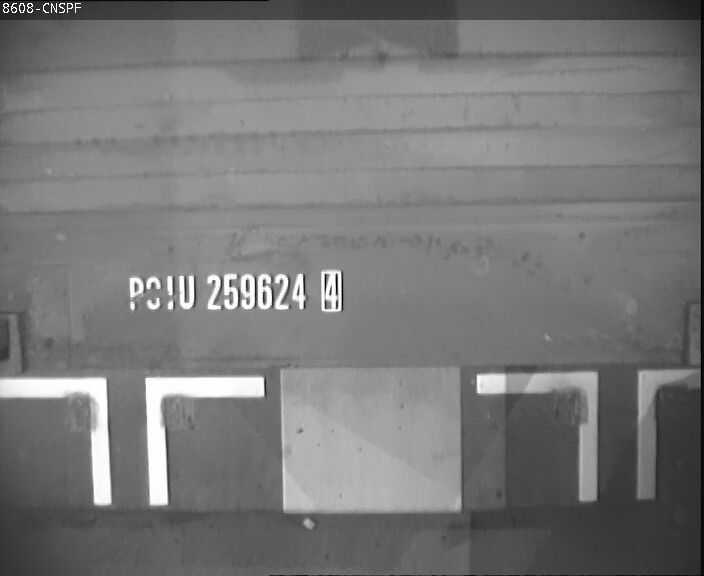groundmarker_1: (2, 375, 261, 508), (477, 370, 704, 501)
